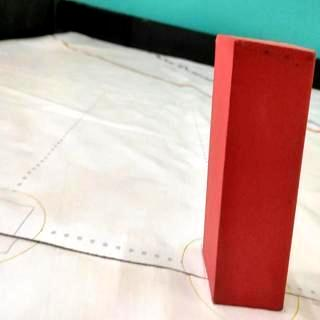redbox: (210, 36, 292, 308)
